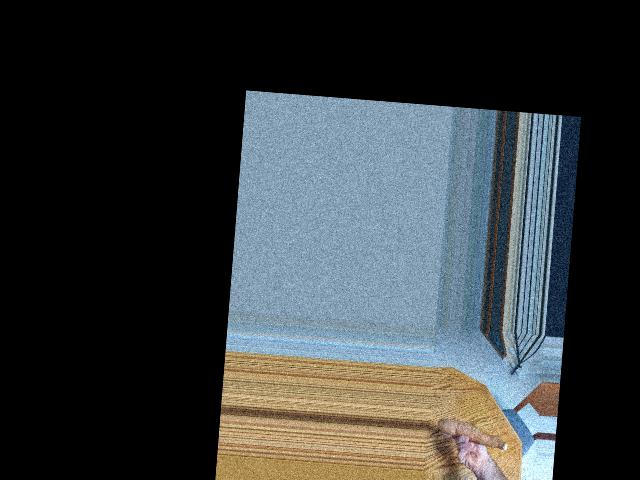sweet_potato: (438, 413, 511, 451)
